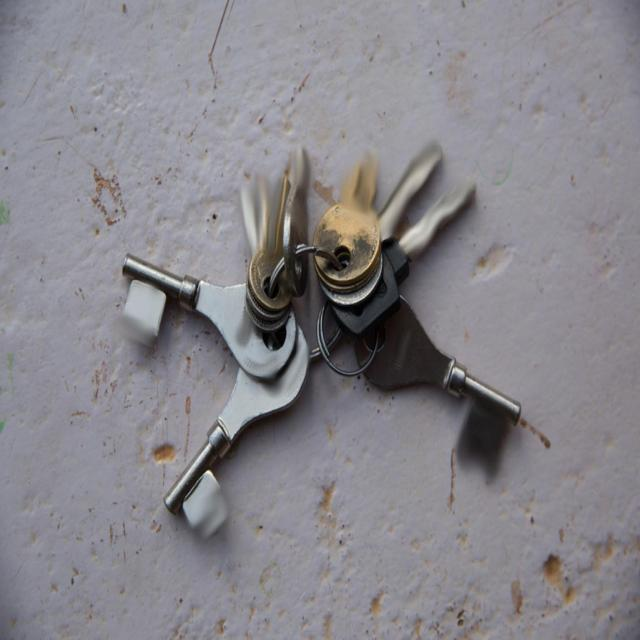Frontdoor keys: (164, 341, 320, 542), (353, 304, 522, 451), (86, 236, 283, 361)
